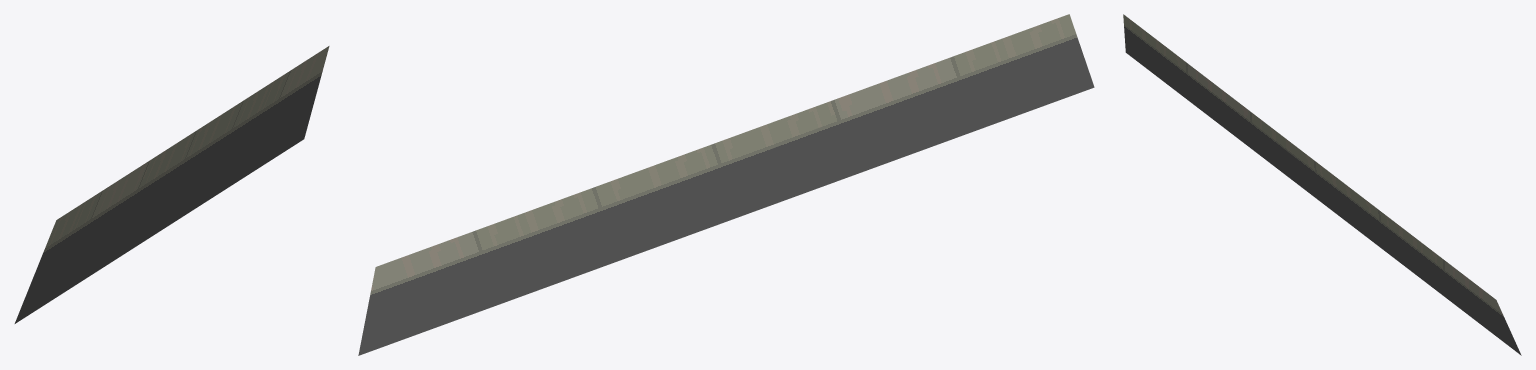
File: kd_stage_135b75_4_94_bounded_piece_7.glb
3 renders of one model, left to right at view 1: azimuth 30°, elevation 25°; view 2: azimuth 150°, elevation 25°; view 3: azimuth 270°, elevation 25°, orthographic. The views are drawn at different scales.
Visible parts, largest first — view 1: kd_stage_135b75_4_94_bounded_piece_7; view 2: kd_stage_135b75_4_94_bounded_piece_7; view 3: kd_stage_135b75_4_94_bounded_piece_7.
Part boxes in pixels (box(x1,y1,x2,y2)): kd_stage_135b75_4_94_bounded_piece_7: box(14, 46, 329, 323); kd_stage_135b75_4_94_bounded_piece_7: box(358, 14, 1094, 355); kd_stage_135b75_4_94_bounded_piece_7: box(1123, 14, 1521, 355).
Bounding box in the file's own units: 1 × 0.5153 × 1.01.
1 material, 1 textured.
